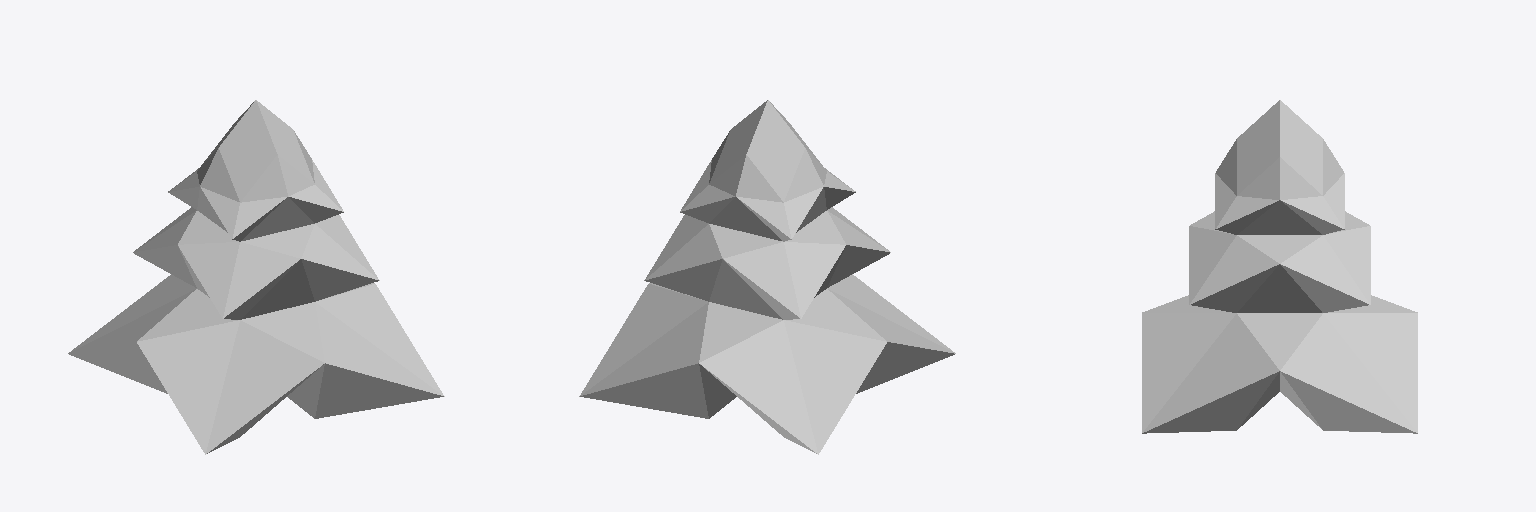
The model's file is Pine.obj.
3 renders of one model, left to right at view 1: azimuth 30°, elevation 25°; view 2: azimuth 150°, elevation 25°; view 3: azimuth 270°, elevation 25°, orthographic.
Parts seen in each view (by area): view 1: Cube; view 2: Cube; view 3: Cube.
Part boxes in pixels (x1,y1,x2,y2): Cube: (68,100,444,454); Cube: (579,100,955,454); Cube: (1142,100,1417,433).
Size of the model in its own units: 6.4 by 8 by 6.4.